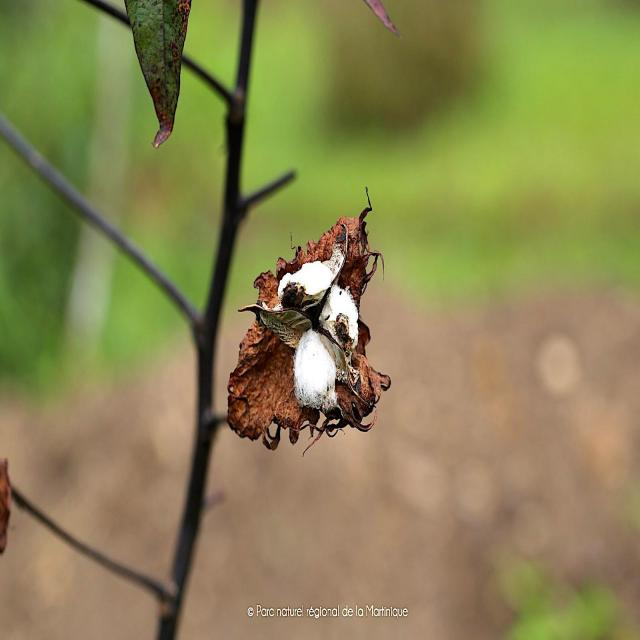Late_blight: (228, 207, 384, 440)
